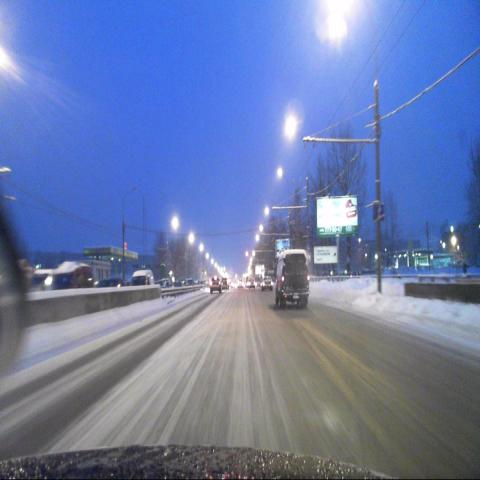6_6: (373, 204, 385, 223)
